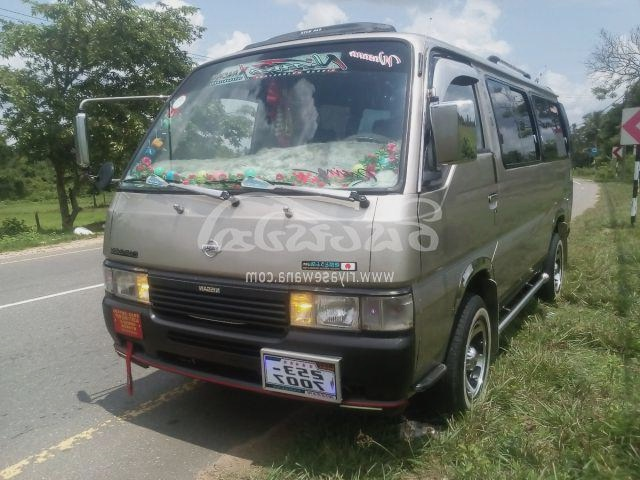van: (73, 20, 572, 411)
